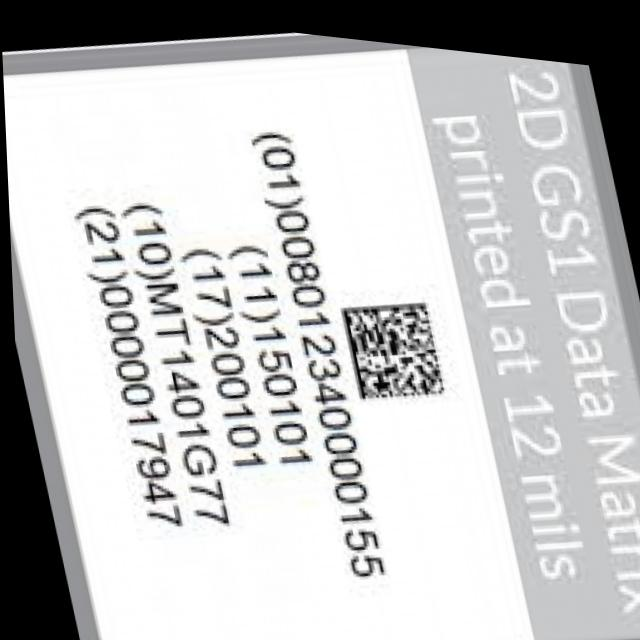datamatrix: (330, 279, 449, 409)
